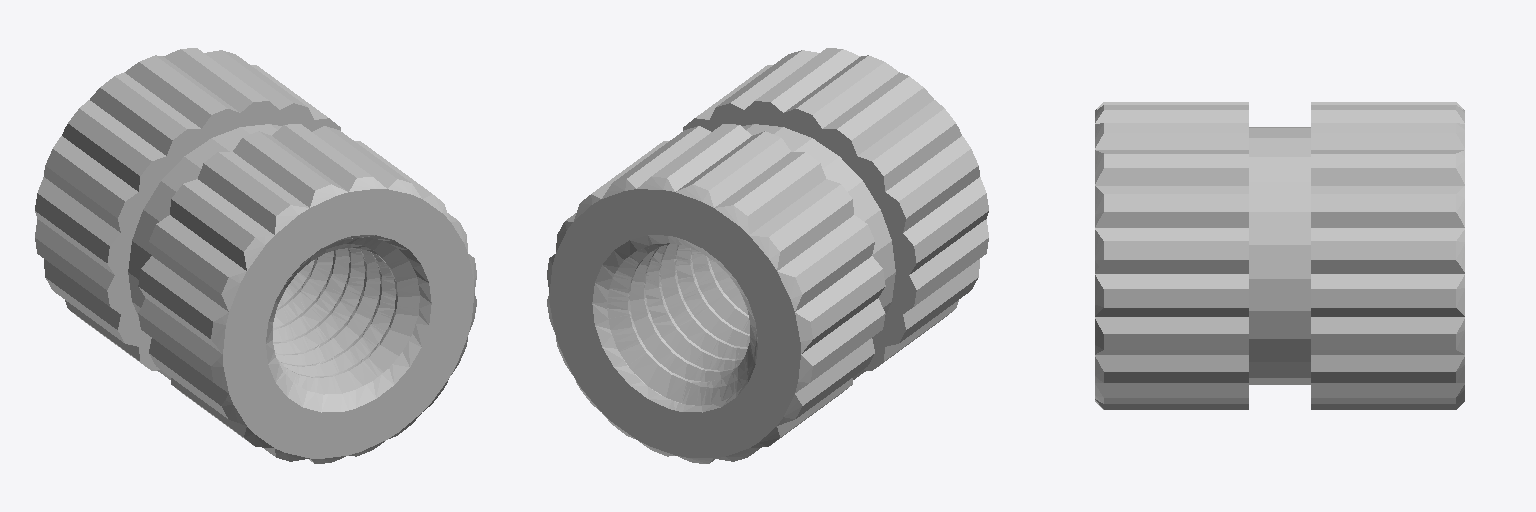
The model's file is T200_04_T200STEP_T200STEPSTEP_T200_CORE_T200_CORE_STDSTEPSTEP_T200_ASM_STATOR_BASE_ORING_Pubilc_STEPSTEP_T200STEP1_01_T200STEP1.obj.
3 views of the same model, side by side, from view 1: azimuth 30°, elevation 25°; view 2: azimuth 150°, elevation 25°; view 3: azimuth 270°, elevation 25° (orthographic).
Bounding box in the file's own units: 0.005 × 0.005 × 0.006.